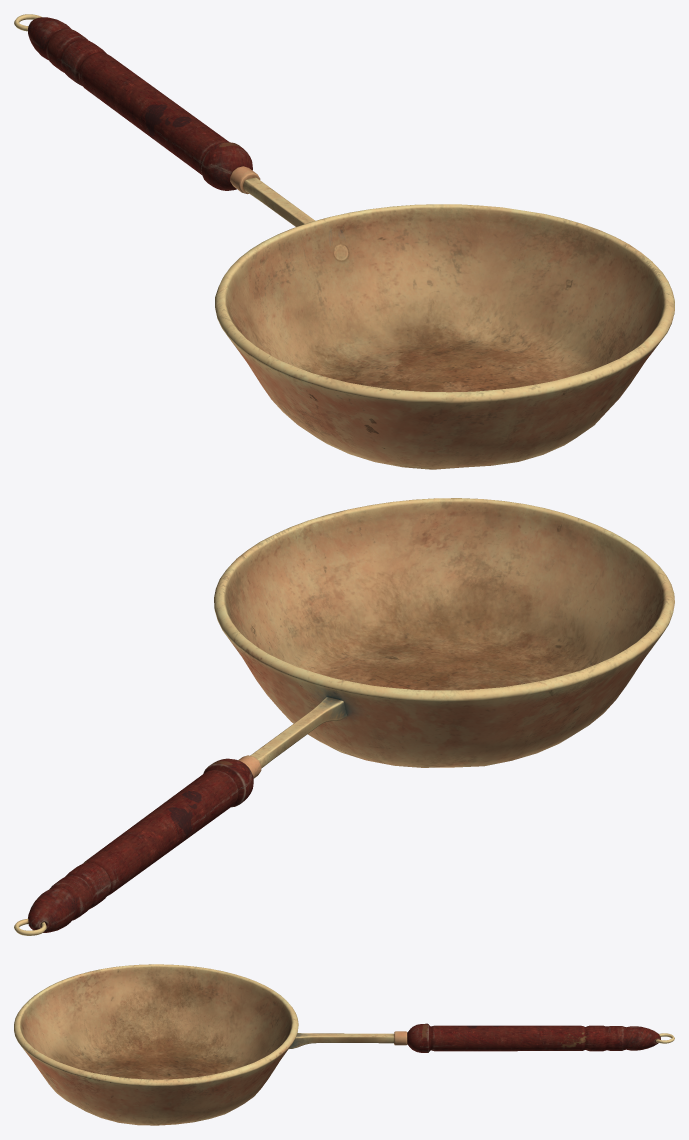
Rendered from brass_pan_01_4k.fbx.
3 renders of one model, top to bottom at view 1: azimuth 30°, elevation 25°; view 2: azimuth 150°, elevation 25°; view 3: azimuth 270°, elevation 25°, orthographic. The views are drawn at different scales.
Visible parts, largest first — view 1: brass_pan_01; view 2: brass_pan_01; view 3: brass_pan_01.
Part boxes in pixels (x1,y1,x2,y2): brass_pan_01: (14,14,674,469); brass_pan_01: (14,498,674,935); brass_pan_01: (14,964,674,1125).
Bounding box in the file's own units: 19.13 × 5.25 × 44.97.
1 material, 1 textured.
